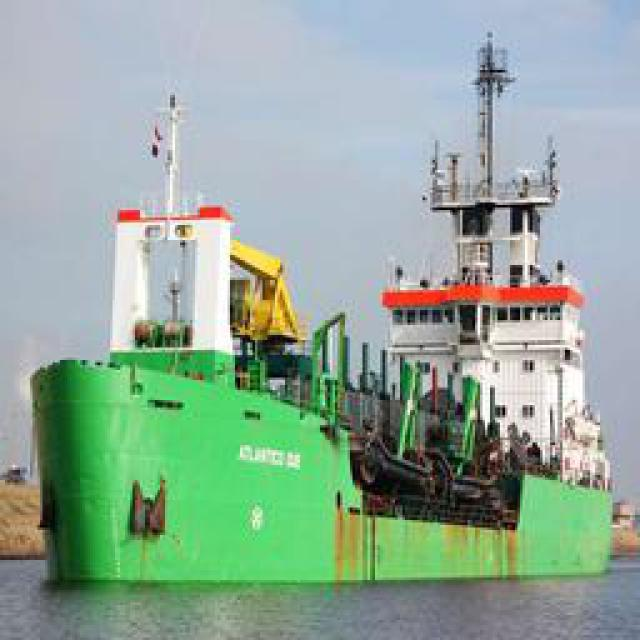Ship: (23, 28, 616, 590)
